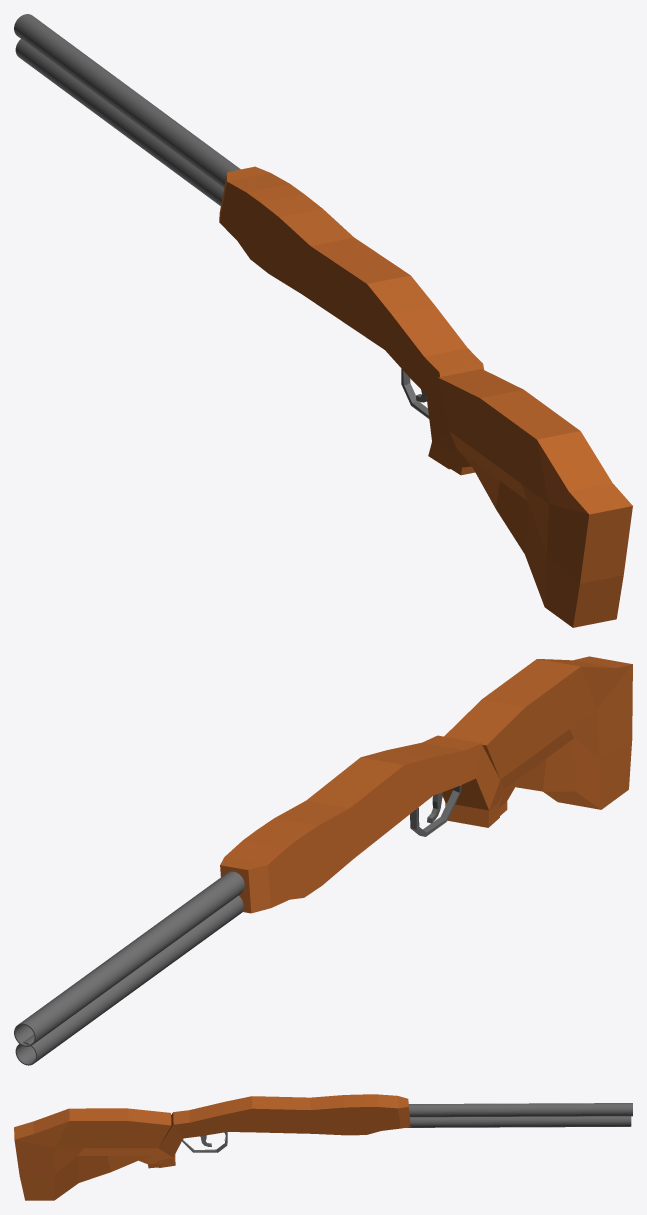
Rendered from shotgun.glb.
The picture shows the model from 3 angles, top to bottom: view 1: azimuth 30°, elevation 25°; view 2: azimuth 150°, elevation 25°; view 3: azimuth 270°, elevation 25°; orthographic projection. The views are drawn at different scales.
Visible parts, largest first — view 1: Plane, Cylinder.001; view 2: Plane, Cylinder.001, Plane.002; view 3: Plane, Cylinder.001, Plane.002.
Part boxes in pixels (bbox=[...]): Plane: bbox=[219, 166, 632, 627]; Cylinder.001: bbox=[14, 14, 240, 205]; Plane: bbox=[220, 656, 632, 913]; Cylinder.001: bbox=[14, 871, 244, 1065]; Plane.002: bbox=[410, 785, 461, 836]; Plane: bbox=[14, 1094, 410, 1200]; Cylinder.001: bbox=[406, 1103, 632, 1127]; Plane.002: bbox=[182, 1132, 227, 1152].
Bounding box in the file's own units: 0.5389 × 1.7 × 9.75.
